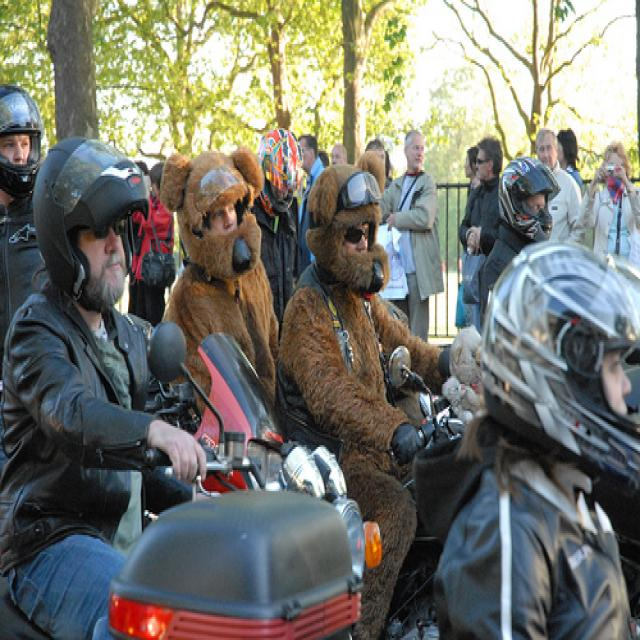motor: (155, 323, 382, 574), (111, 491, 361, 629), (389, 345, 467, 447)
